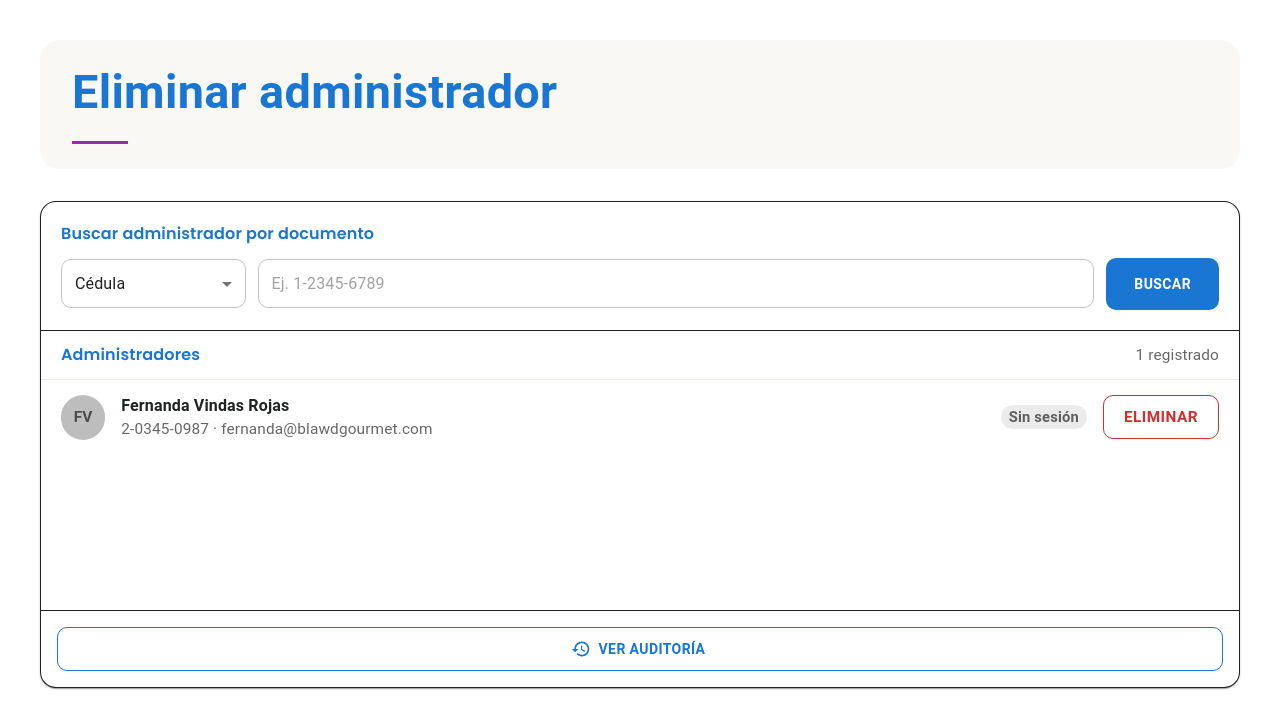
AdminManagement audit log › fetches and renders the audit log on mount, mapping action codes to labels
Expected: the text "Fernanda Vindas Rojas" is shown, [121,396,289,415]
Click the button "Ver auditoría".
click(640, 649)  # box [57,627,1223,671]
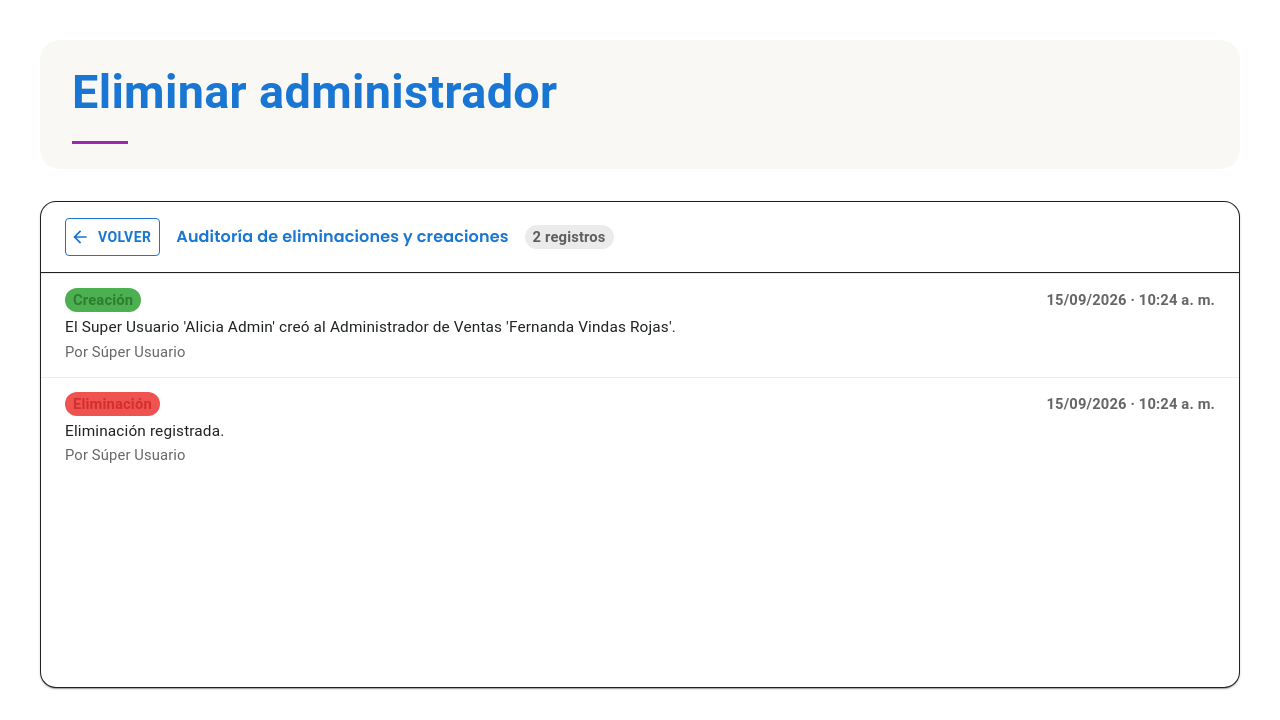
Expected: the text "Creación" is shown, [73,291,133,309]
Expected: the text "Eliminación" is shown, [73,395,152,413]
Expected: the text "Por Súper Usuario" below "Creación" is shown, [65,343,186,361]
